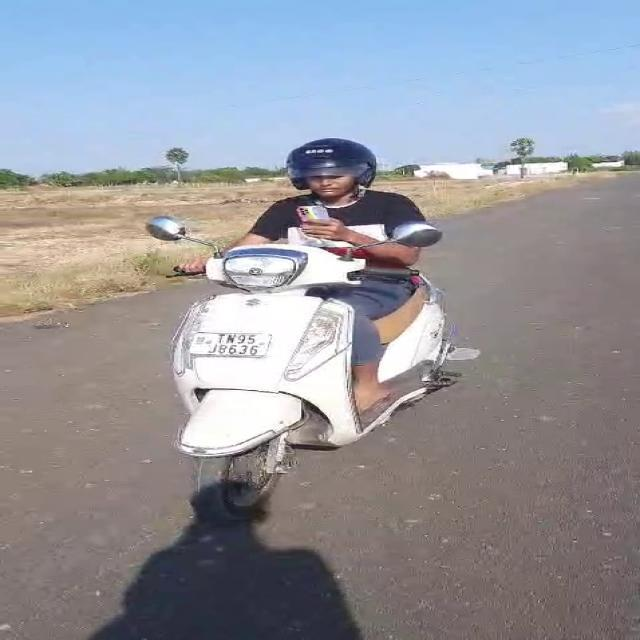USING_MOBILE: (288, 136, 399, 237)
